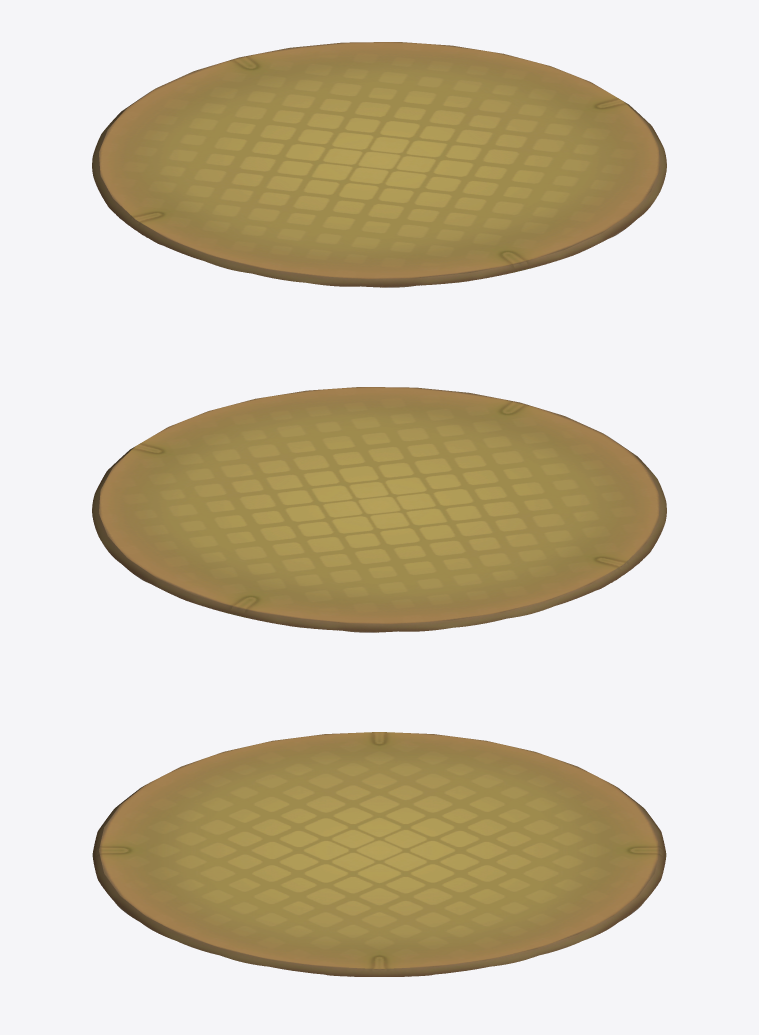
Rendered from pref_fx_NeutralScoreArea03_yellow_floor_lv2.fbx.
3 views of the same model, one above another, from view 1: azimuth 30°, elevation 25°; view 2: azimuth 150°, elevation 25°; view 3: azimuth 270°, elevation 25° (orthographic).
Visible parts, largest first — view 1: sm_prop_platform06a_lv2; view 2: sm_prop_platform06a_lv2; view 3: sm_prop_platform06a_lv2.
Boxes of the visible parts, box(x1,y1,x2,y2) form: sm_prop_platform06a_lv2: box(92, 42, 666, 287); sm_prop_platform06a_lv2: box(92, 387, 666, 632); sm_prop_platform06a_lv2: box(92, 732, 666, 976).
Bounding box in the file's own units: 7.46 × 0.2009 × 7.46.
